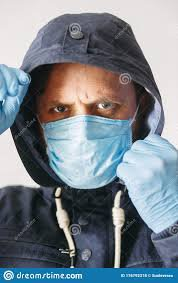mask: (9, 9, 148, 198)
